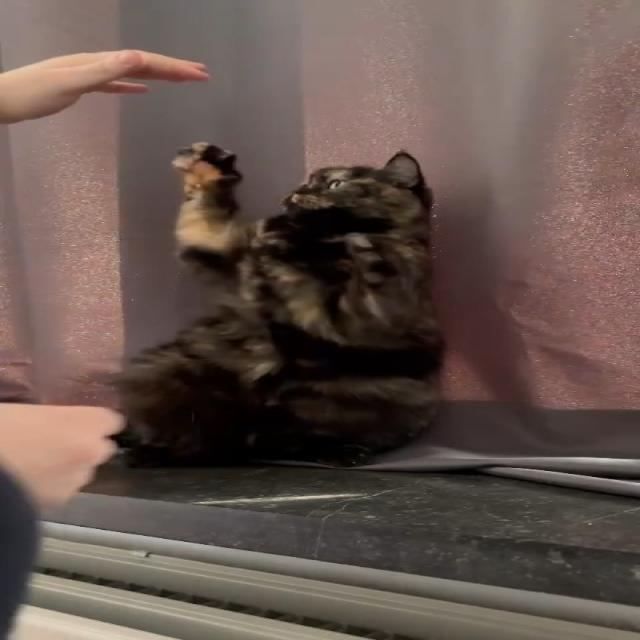authorized: (102, 144, 446, 468)
